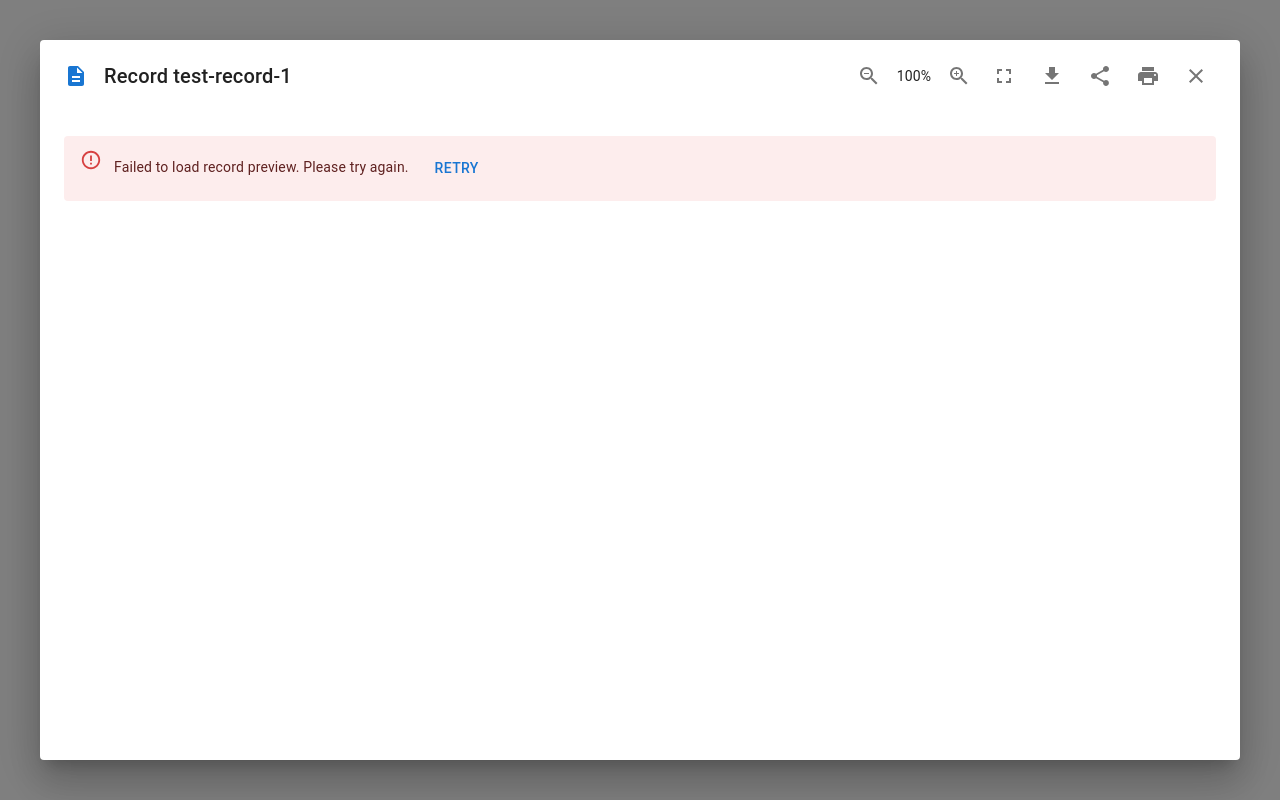
RecordPreviewPanel › handles retry on error
This screenshot has width=1280, height=800.
Check: the text "Failed to load record preview. Please try again. Retry" is shown, box 114,142 -> 489,194
Click the button "Retry". click: (457, 168)
box: 425,150 -> 489,186
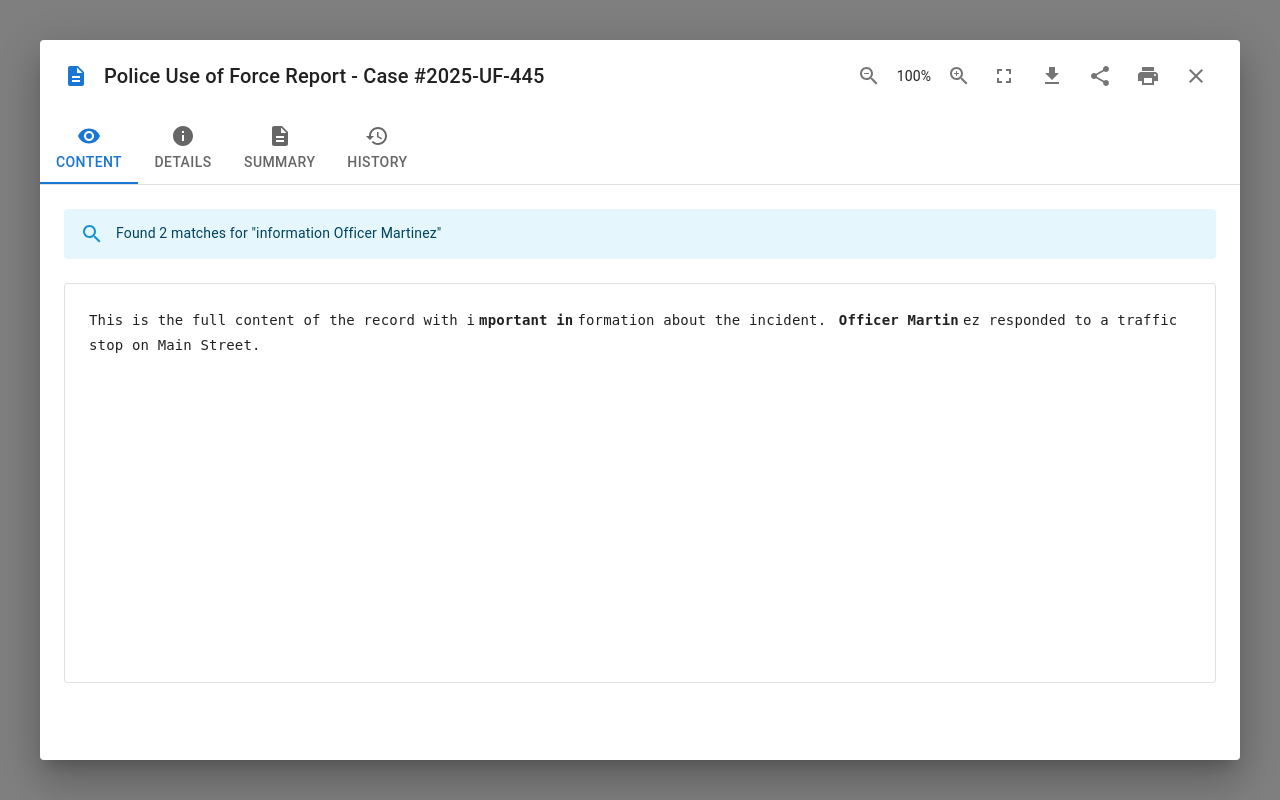
Check: the heading "Police Use of Force Report - Case #2025-UF-445" is shown, box 104,64 -> 545,88
